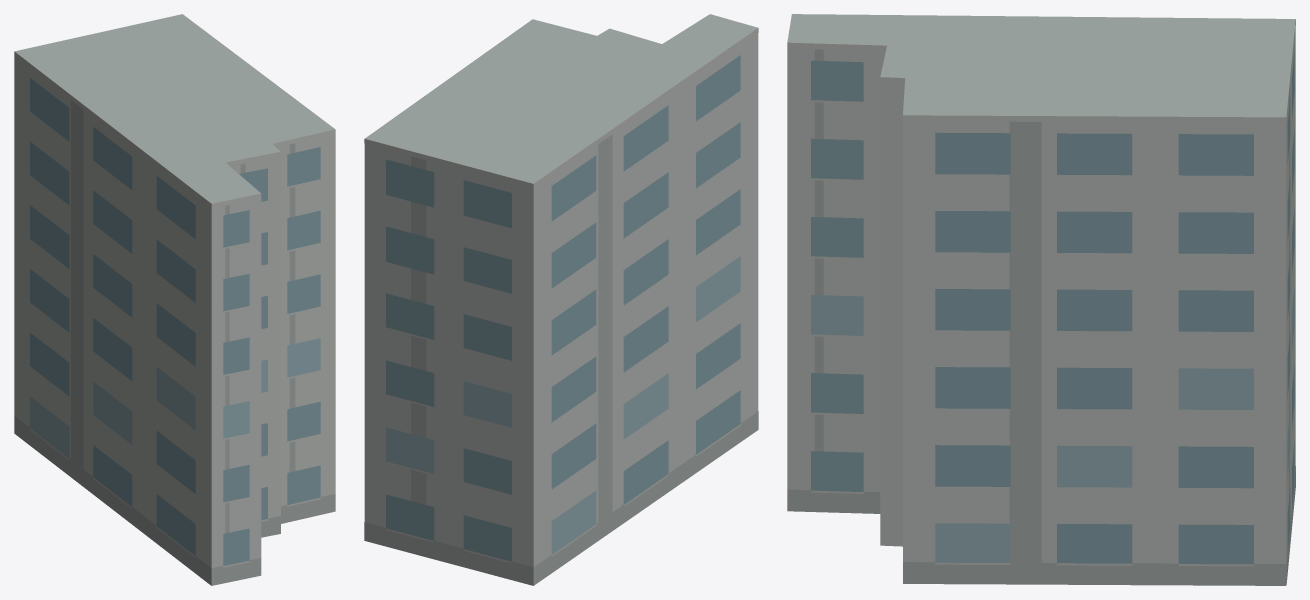
The model's file is survey-upis-32576721.glb.
The picture shows the model from 3 angles, left to right: view 1: azimuth 30°, elevation 25°; view 2: azimuth 150°, elevation 25°; view 3: azimuth 270°, elevation 25°; orthographic projection. The views are drawn at different scales.
Parts seen in each view (by area): view 1: survey-upis-32576721.tmp; view 2: survey-upis-32576721.tmp; view 3: survey-upis-32576721.tmp.
Part boxes in pixels (x1,y1,x2,y2): survey-upis-32576721.tmp: (14, 14, 335, 585); survey-upis-32576721.tmp: (364, 14, 758, 585); survey-upis-32576721.tmp: (787, 14, 1295, 585).
Size of the model in its own units: 9.16 by 19.35 by 19.04.
